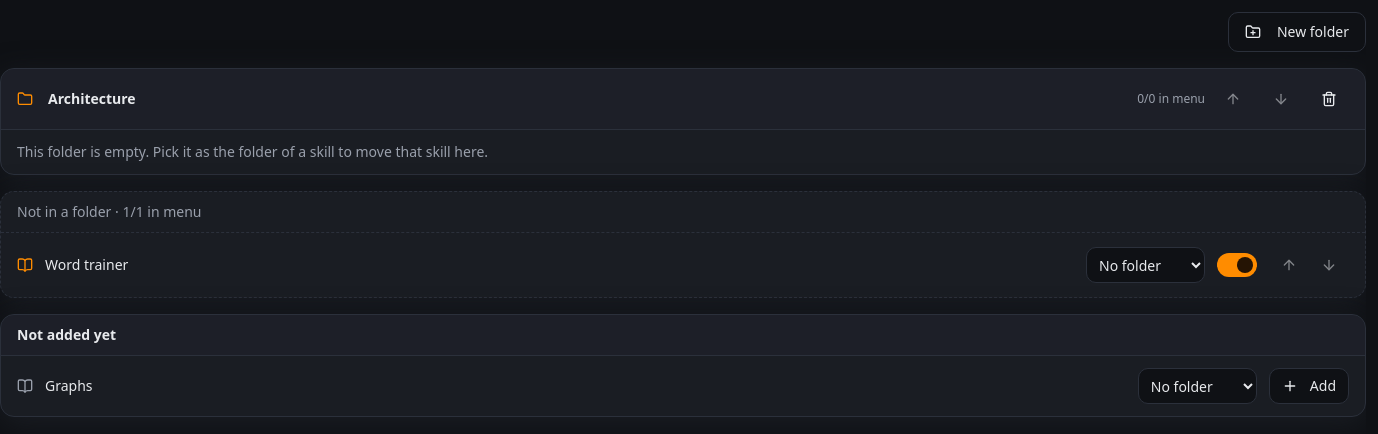
Scenario: MenuEditor › adds a skill into the folder chosen for it, and shows the menu that comes back
The width and height of the screenshot is (1378, 434).
Select "Architecture" in the dropdown in the row of "Graphs": coordinates (1197, 386) top-left (1138, 368), bottom-right (1257, 404)
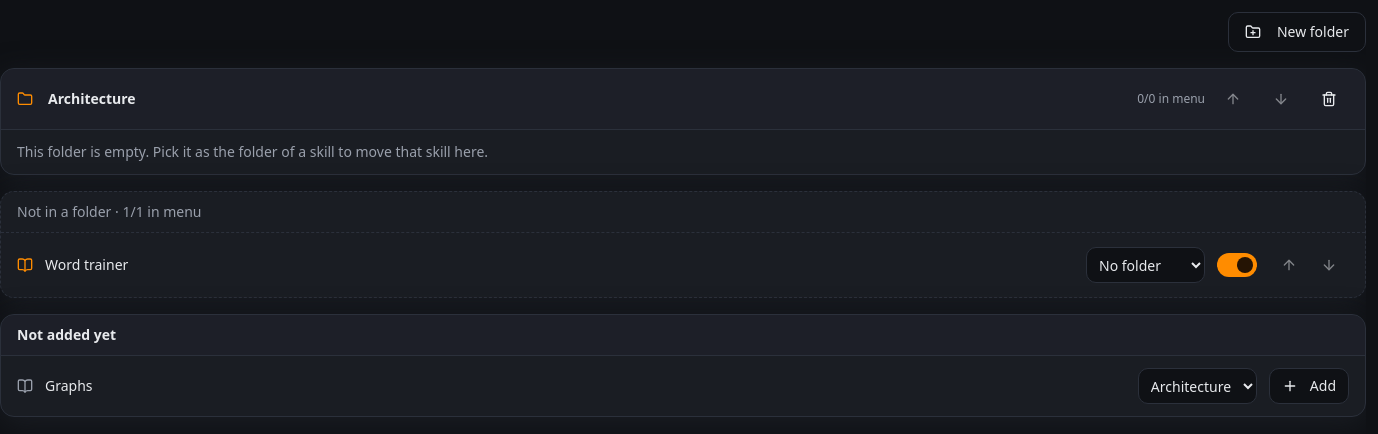
Click the button "Add": coordinates (1309, 386) top-left (1269, 368), bottom-right (1349, 404)
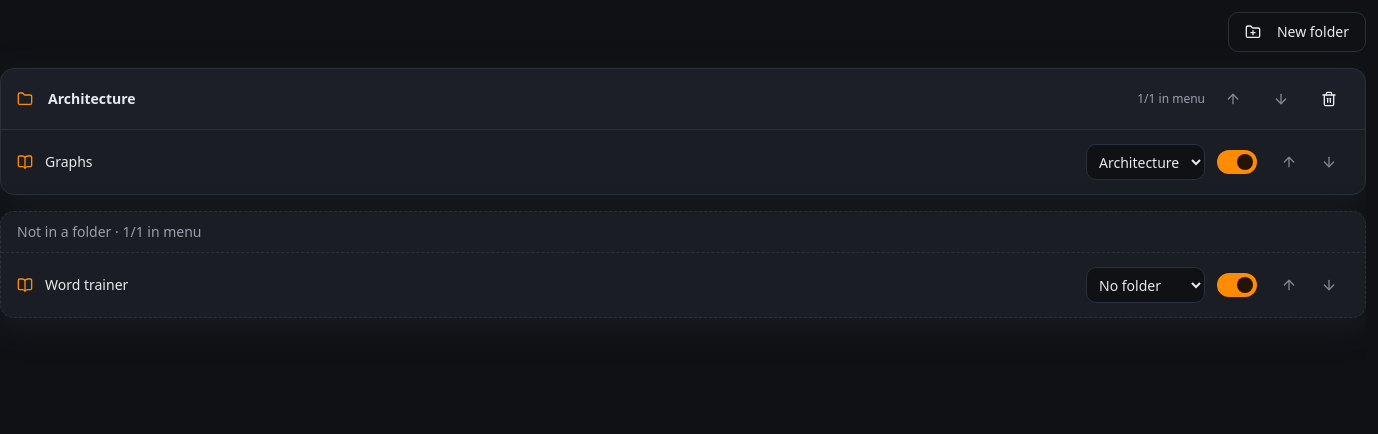
Now the text "Not added yet" is gone
